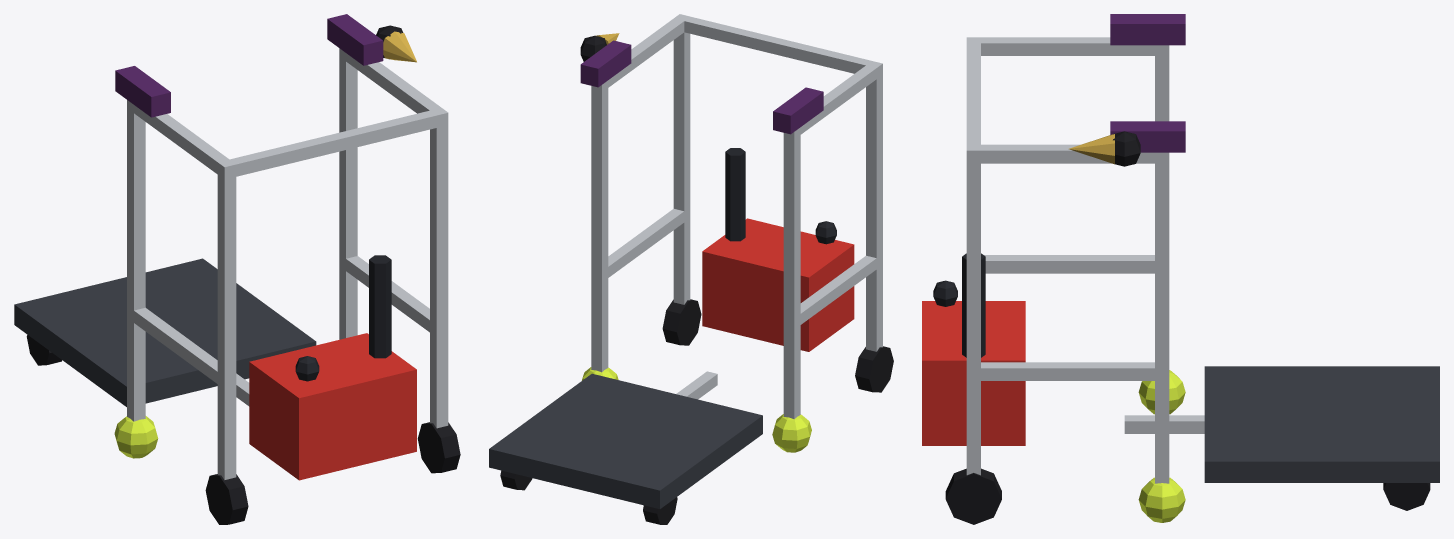
The model's file is motor_walker.glb.
The picture shows the model from 3 angles, left to right: view 1: azimuth 30°, elevation 25°; view 2: azimuth 150°, elevation 25°; view 3: azimuth 270°, elevation 25°; orthographic projection. The views are drawn at different scales.
Visible parts, largest first — view 1: frame_walker_alu, deck_walker_deck, motor_walker_motor, wheels_tire, frame_walker_grip, motor_car_black, frame_tennis_ball, horn_horn_brass; view 2: frame_walker_alu, deck_walker_deck, motor_walker_motor, wheels_tire, frame_walker_grip, motor_car_black, frame_tennis_ball, deck_walker_alu; view 3: deck_walker_deck, frame_walker_alu, motor_walker_motor, frame_walker_grip, wheels_tire, frame_tennis_ball, motor_car_black, deck_walker_alu, horn_horn_bulb, horn_horn_brass.
Boxes of the visible parts, x1=… form: frame_walker_alu: x1=127, y1=48, x2=448, y2=479; deck_walker_deck: x1=14, y1=258, x2=316, y2=406; motor_walker_motor: x1=249, y1=333, x2=416, y2=480; wheels_tire: x1=26, y1=335, x2=460, y2=524; frame_walker_grip: x1=115, y1=14, x2=383, y2=117; motor_car_black: x1=295, y1=255, x2=391, y2=381; frame_tennis_ball: x1=114, y1=416, x2=158, y2=458; horn_horn_brass: x1=383, y1=31, x2=416, y2=62; frame_walker_alu: x1=591, y1=14, x2=882, y2=419; deck_walker_deck: x1=489, y1=373, x2=762, y2=508; motor_walker_motor: x1=702, y1=218, x2=854, y2=351; wheels_tire: x1=500, y1=299, x2=893, y2=524; frame_walker_grip: x1=580, y1=40, x2=823, y2=134; motor_car_black: x1=725, y1=148, x2=836, y2=244; frame_tennis_ball: x1=582, y1=367, x2=811, y2=452; deck_walker_alu: x1=676, y1=371, x2=717, y2=399; deck_walker_deck: x1=1204, y1=366, x2=1439, y2=482; frame_walker_alu: x1=966, y1=37, x2=1169, y2=483; motor_walker_motor: x1=922, y1=301, x2=1025, y2=445; frame_walker_grip: x1=1110, y1=14, x2=1185, y2=152; wheels_tire: x1=945, y1=468, x2=1430, y2=524; frame_tennis_ball: x1=1138, y1=370, x2=1185, y2=522; motor_car_black: x1=933, y1=253, x2=985, y2=357; deck_walker_alu: x1=1124, y1=415, x2=1204, y2=433; horn_horn_bulb: x1=1113, y1=131, x2=1140, y2=166; horn_horn_brass: x1=1069, y1=134, x2=1114, y2=164.
Size of the model in its own units: 0.69 by 0.94 by 1.1.
